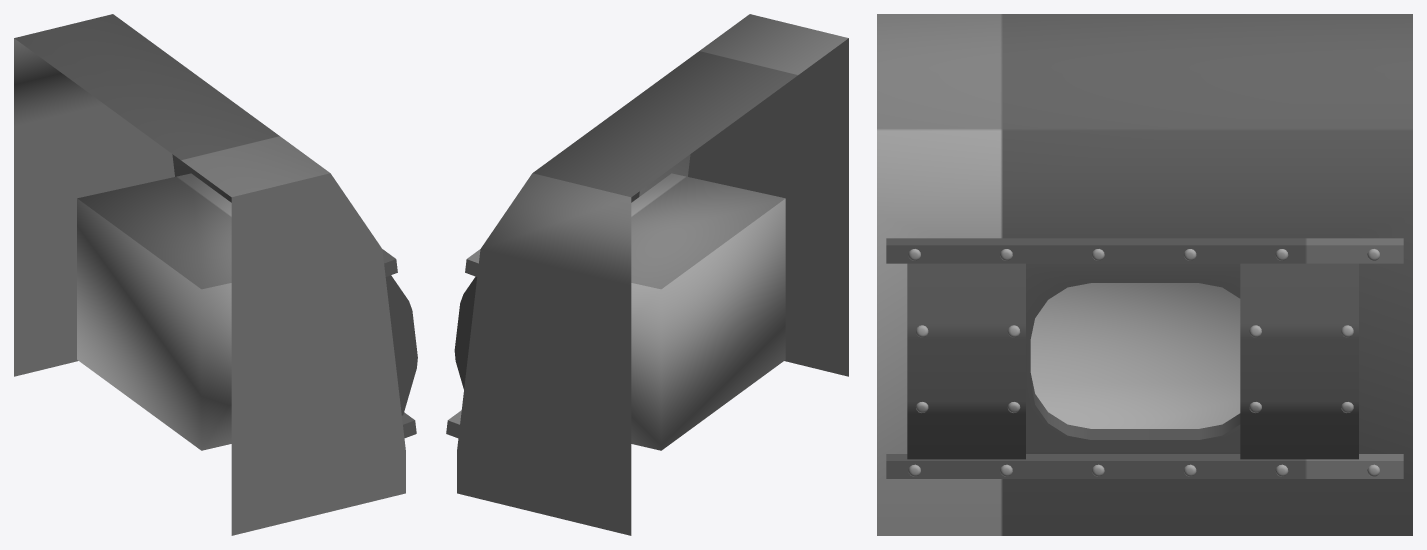
File: SM_four_low.fbx
3 renders of one model, left to right at view 1: azimuth 30°, elevation 25°; view 2: azimuth 150°, elevation 25°; view 3: azimuth 270°, elevation 25°, orthographic. The views are drawn at different scales.
Visible parts, largest first — view 1: SM_four_low; view 2: SM_four_low; view 3: SM_four_low.
Part boxes in pixels (x1,y1,x2,y2): SM_four_low: (14,14,417,535); SM_four_low: (446,14,848,535); SM_four_low: (877,14,1412,535).
Bounding box in the file's own units: 92.16 × 149 × 173.
Materials: 1 (1 with a texture image).
